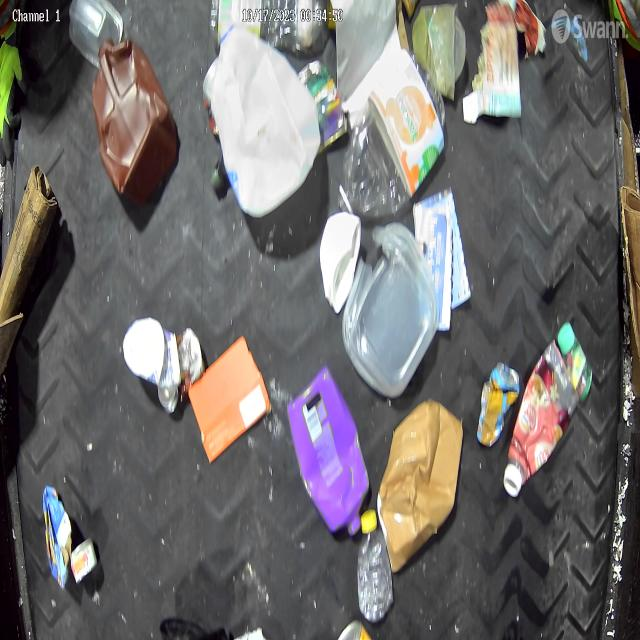can: (296, 57, 346, 148), (477, 362, 520, 448), (178, 326, 205, 395), (70, 537, 98, 585), (334, 619, 376, 639)
milk_jug: (209, 28, 322, 218)
non_white_jug: (92, 37, 179, 204), (286, 370, 370, 538)
plastic_bottle: (338, 50, 445, 217), (210, 0, 336, 55), (356, 507, 396, 624)
